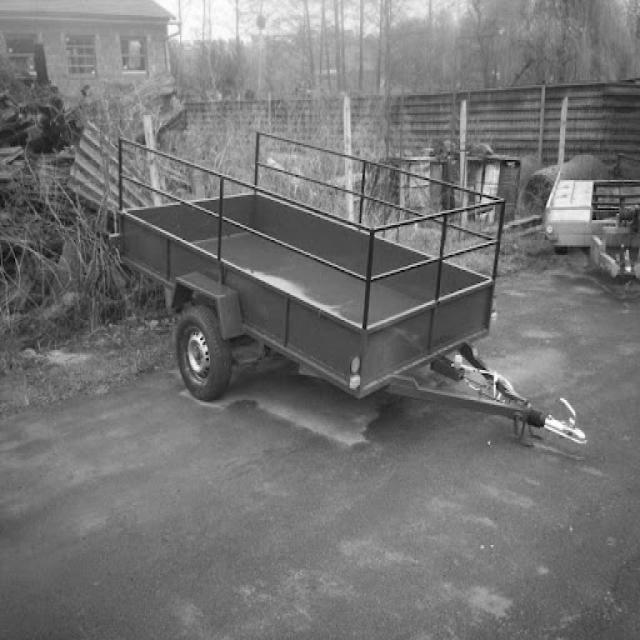Trailer: (106, 131, 548, 444)
